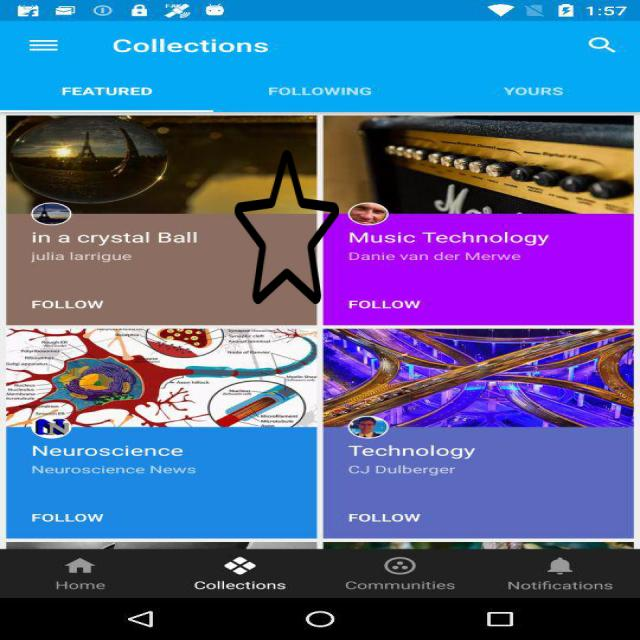forced continuity: (235, 147, 339, 307)
